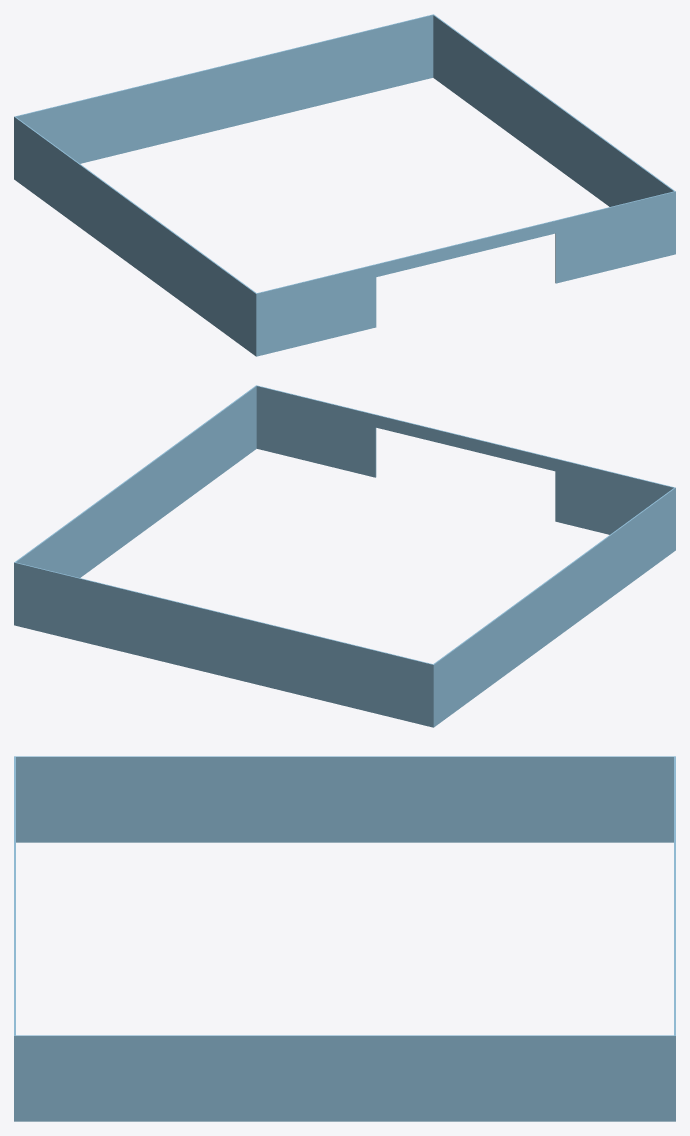
The model's file is Walls.dae.
The picture shows the model from 3 angles, top to bottom: view 1: azimuth 30°, elevation 25°; view 2: azimuth 150°, elevation 25°; view 3: azimuth 270°, elevation 25°; orthographic projection. The views are drawn at different scales.
Visible parts, largest first — view 1: ID2; view 2: ID2; view 3: ID2.
Part boxes in pixels (<box>): ID2: <box>14,14,675,356</box>; ID2: <box>14,385,675,727</box>; ID2: <box>14,756,675,1121</box>.
Bounding box in the file's own units: 35 × 35 × 5.
